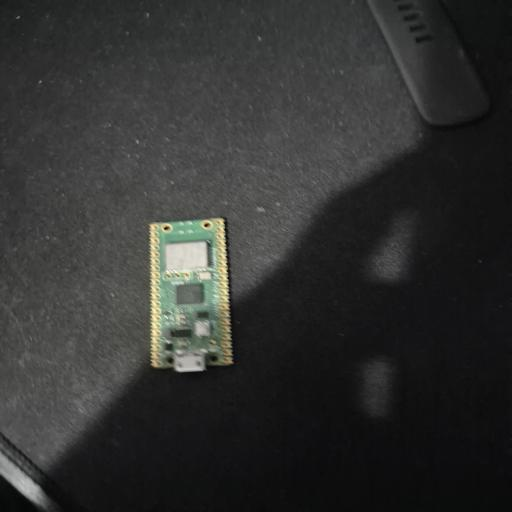raspberry-pi-pico-w: (150, 218, 233, 372)
